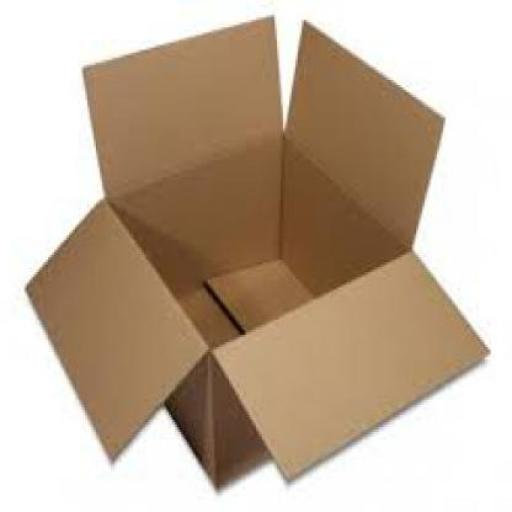cardboard: (27, 7, 495, 490)
